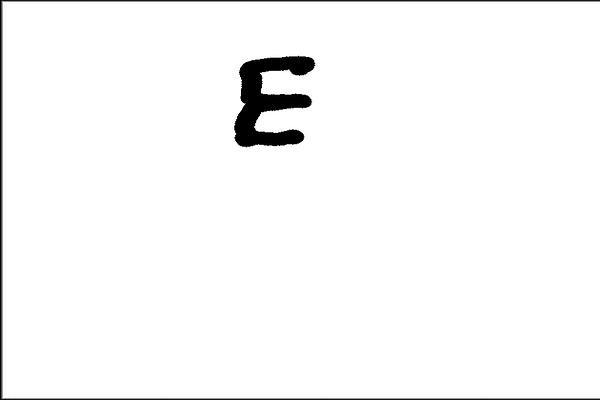E: (231, 50, 319, 150)
